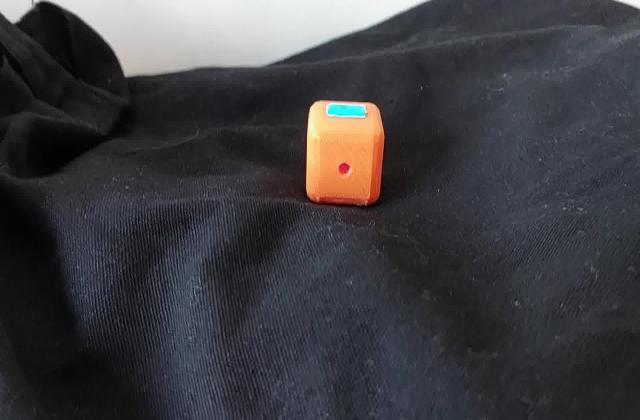blue: (332, 104, 366, 116)
cube: (304, 94, 386, 212)
